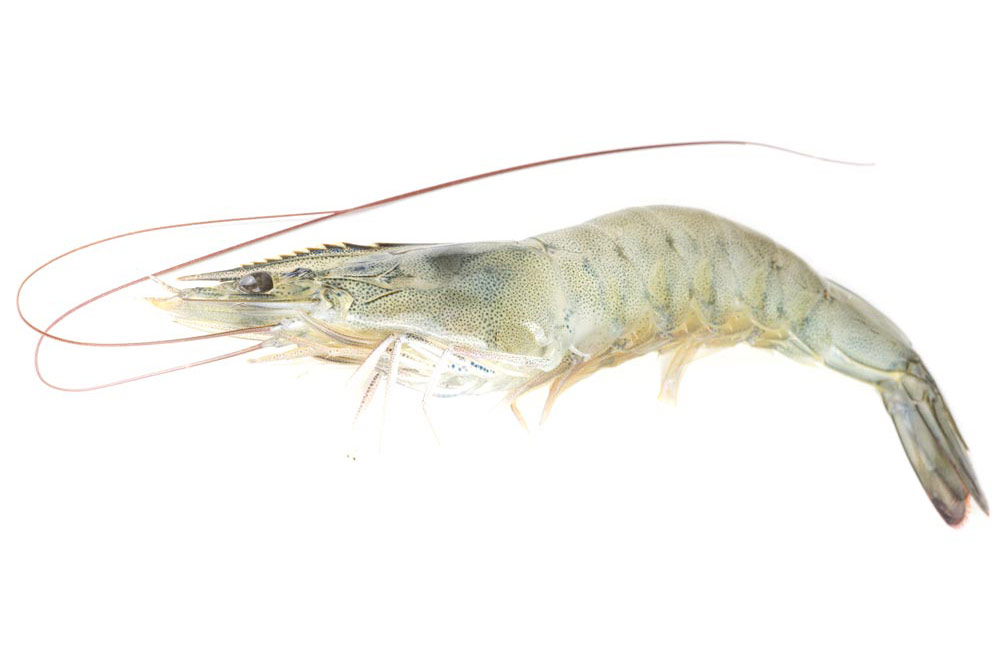White Prawn: (43, 200, 982, 541)
